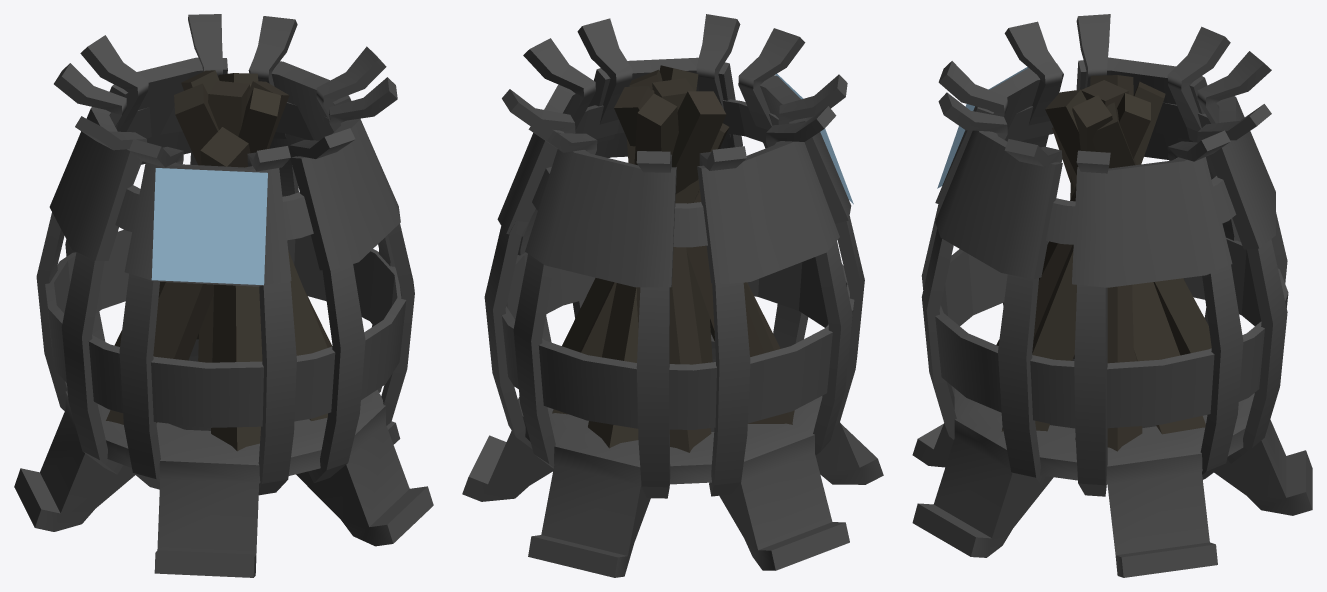
Rendered from BrazierImport.fbx.
3 views of the same model, side by side, from view 1: azimuth 30°, elevation 25°; view 2: azimuth 150°, elevation 25°; view 3: azimuth 270°, elevation 25° (orthographic).
Parts seen in each view (by area): view 1: Brazier; view 2: Brazier; view 3: Brazier.
Part boxes in pixels (x1=…): Brazier: x1=14, y1=14, x2=433, y2=577; Brazier: x1=462, y1=14, x2=883, y2=577; Brazier: x1=912, y1=14, x2=1312, y2=577.
Size of the model in its own units: 105 by 114 by 99.77.
